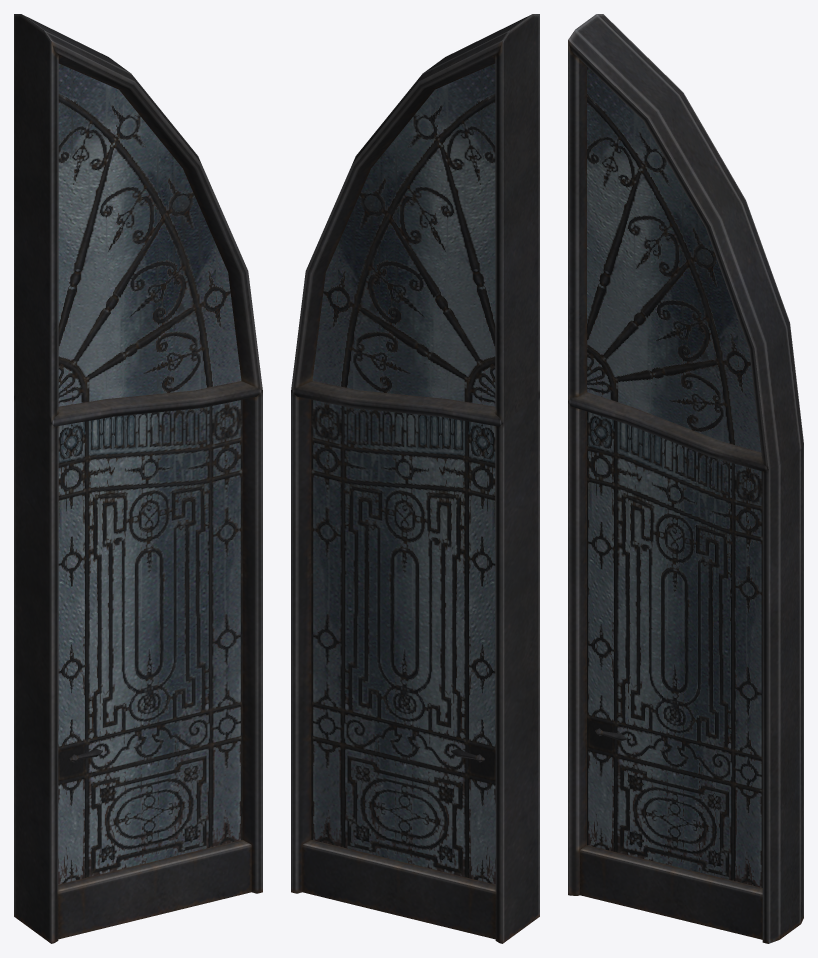
Rendered from SM_Door02.FBX.
The picture shows the model from 3 angles, left to right: view 1: azimuth 30°, elevation 25°; view 2: azimuth 150°, elevation 25°; view 3: azimuth 330°, elevation 25°; orthographic projection. The views are drawn at different scales.
Visible parts, largest first — view 1: SM_Door02; view 2: SM_Door02; view 3: SM_Door02.
Boxes of the visible parts, x1=… form: SM_Door02: x1=14, y1=14, x2=262, y2=943; SM_Door02: x1=291, y1=14, x2=539, y2=943; SM_Door02: x1=568, y1=14, x2=803, y2=943.
Size of what is drawn, in the model's own units: 187 by 56.17 by 752.
